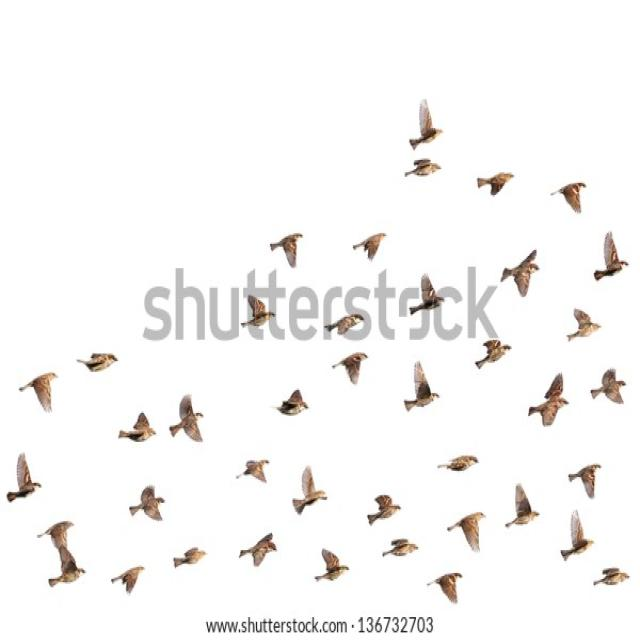bird: (35, 518, 92, 593), (525, 369, 571, 429), (401, 356, 444, 414), (592, 226, 636, 282), (287, 464, 330, 521), (556, 509, 598, 567), (498, 247, 543, 301), (406, 98, 446, 156), (3, 452, 44, 508), (166, 392, 207, 444), (443, 508, 488, 555), (16, 367, 60, 414), (406, 269, 448, 317), (501, 481, 541, 530), (587, 366, 630, 407), (236, 530, 280, 569), (127, 482, 168, 523), (329, 348, 372, 386), (266, 230, 306, 270), (547, 177, 588, 216), (565, 304, 604, 343), (311, 546, 351, 584), (426, 570, 466, 608), (472, 337, 514, 372), (366, 491, 405, 528), (568, 462, 604, 502), (349, 229, 390, 264), (118, 410, 159, 445), (109, 561, 148, 596), (243, 292, 278, 330), (269, 386, 311, 417), (324, 310, 367, 340), (475, 170, 515, 199), (74, 350, 122, 374), (233, 456, 272, 485), (402, 156, 443, 182), (379, 534, 421, 559), (435, 452, 480, 475), (591, 564, 632, 588), (170, 546, 207, 572)
